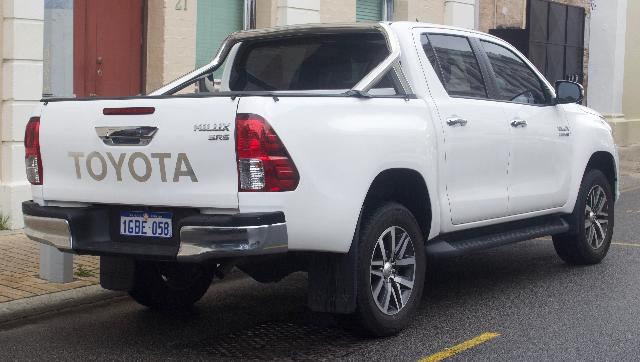pickup-truck: (28, 23, 620, 336)
